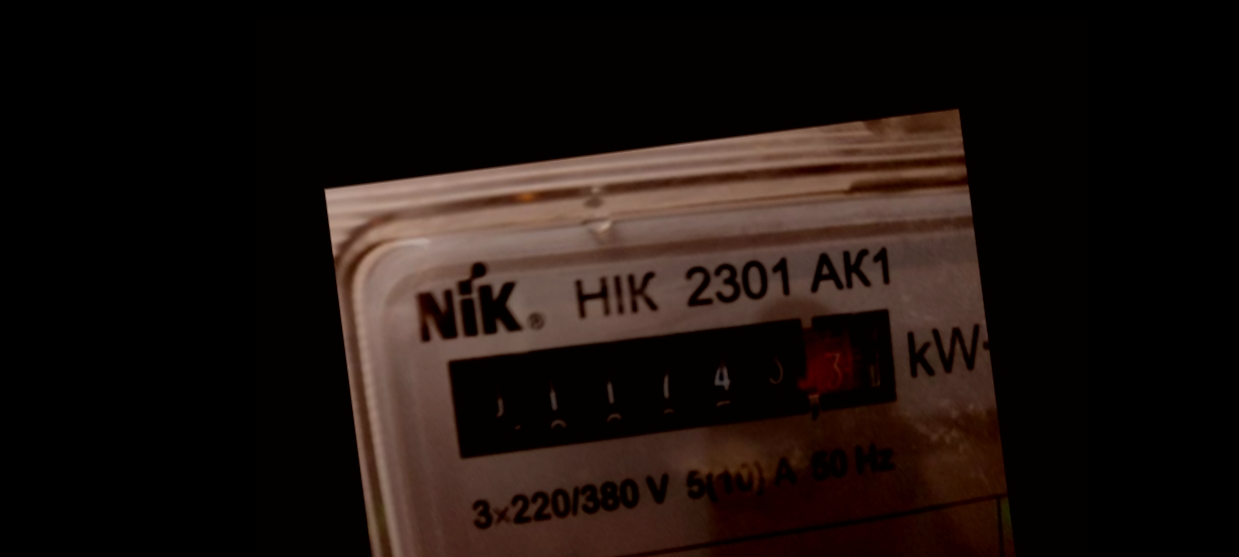0: (476, 372, 511, 423)
1: (596, 359, 622, 410), (541, 367, 564, 416)
3: (758, 340, 792, 390), (820, 346, 849, 393)
4: (705, 345, 739, 397)
7: (651, 354, 681, 404)
screen: (431, 295, 908, 471)
